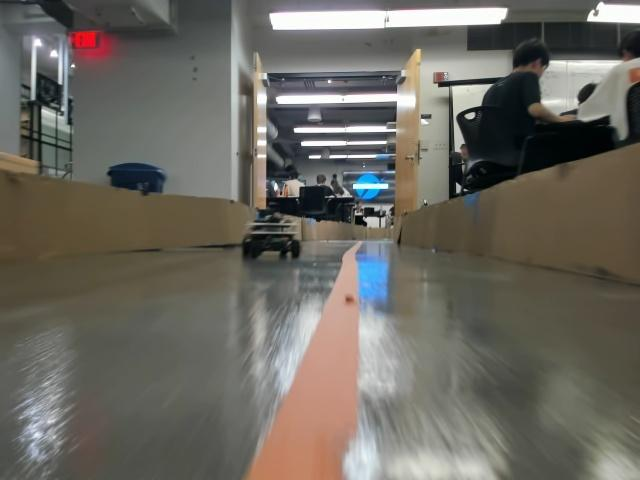Car: (243, 211, 301, 257)
